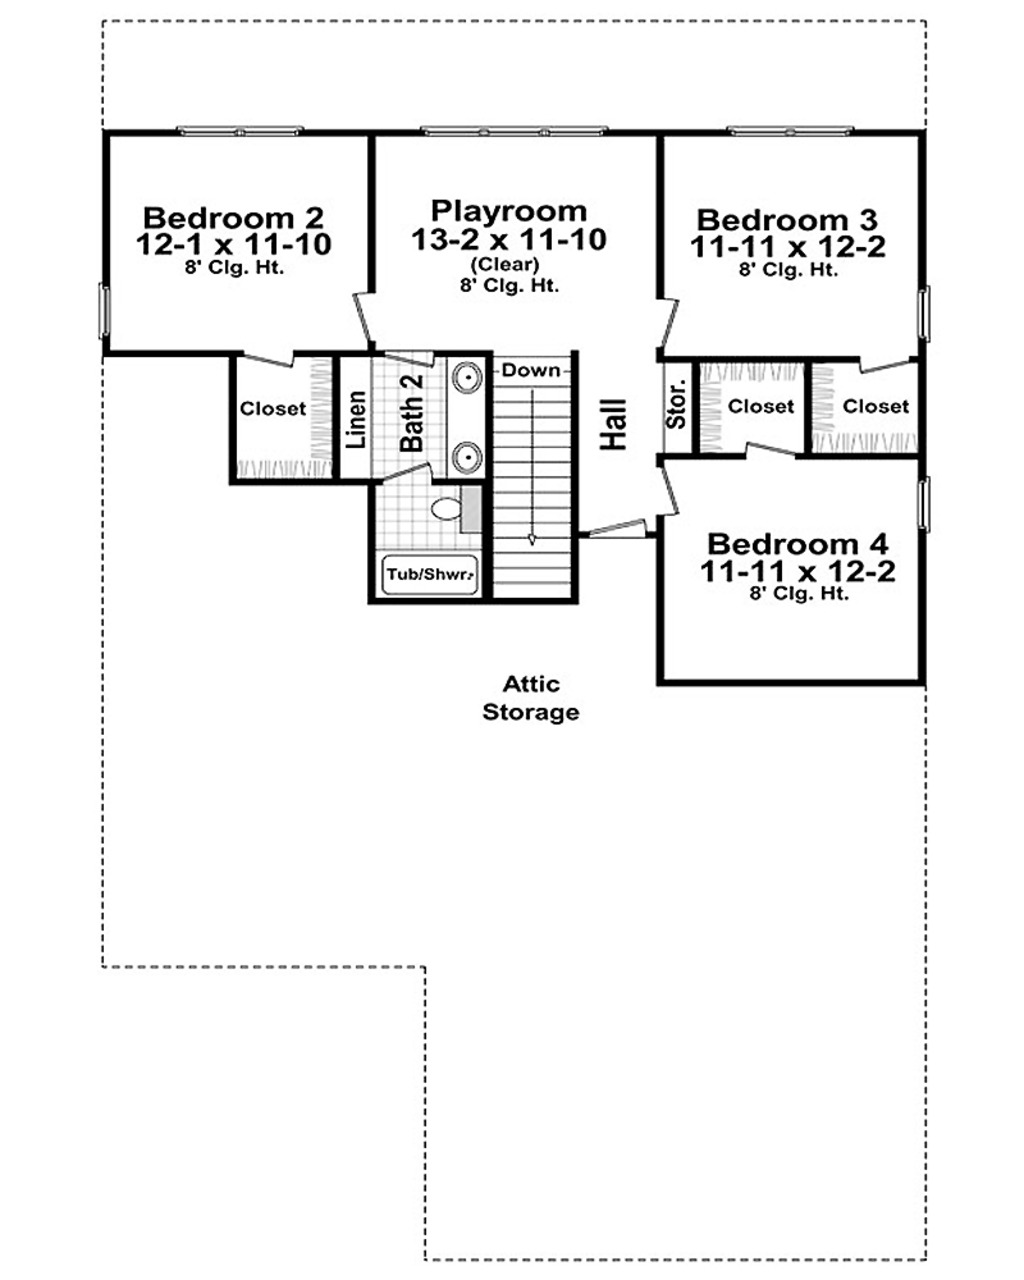door: (349, 293, 383, 347), (741, 441, 811, 467), (655, 289, 683, 351), (857, 353, 913, 381), (241, 343, 297, 371), (651, 475, 673, 523)
large_sink: (429, 487, 483, 549)
small_sink: (449, 363, 497, 411), (455, 433, 487, 471)
stairs: (493, 353, 571, 605)
tub: (385, 551, 483, 605)
window: (433, 121, 611, 135), (179, 123, 313, 141), (99, 273, 115, 359), (723, 127, 837, 133), (921, 287, 927, 349)
